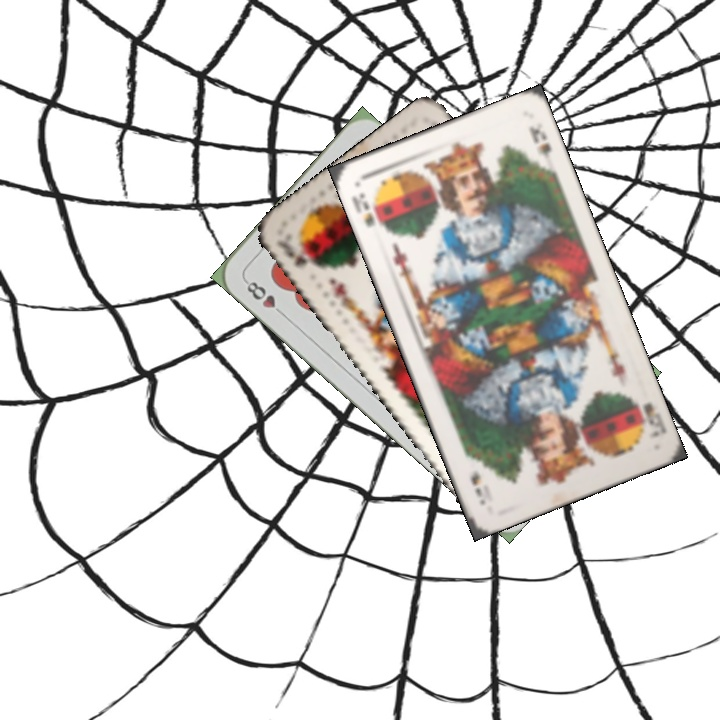H8: (240, 275, 289, 320)
SK: (274, 240, 323, 273), (347, 188, 378, 230), (639, 398, 668, 441)
